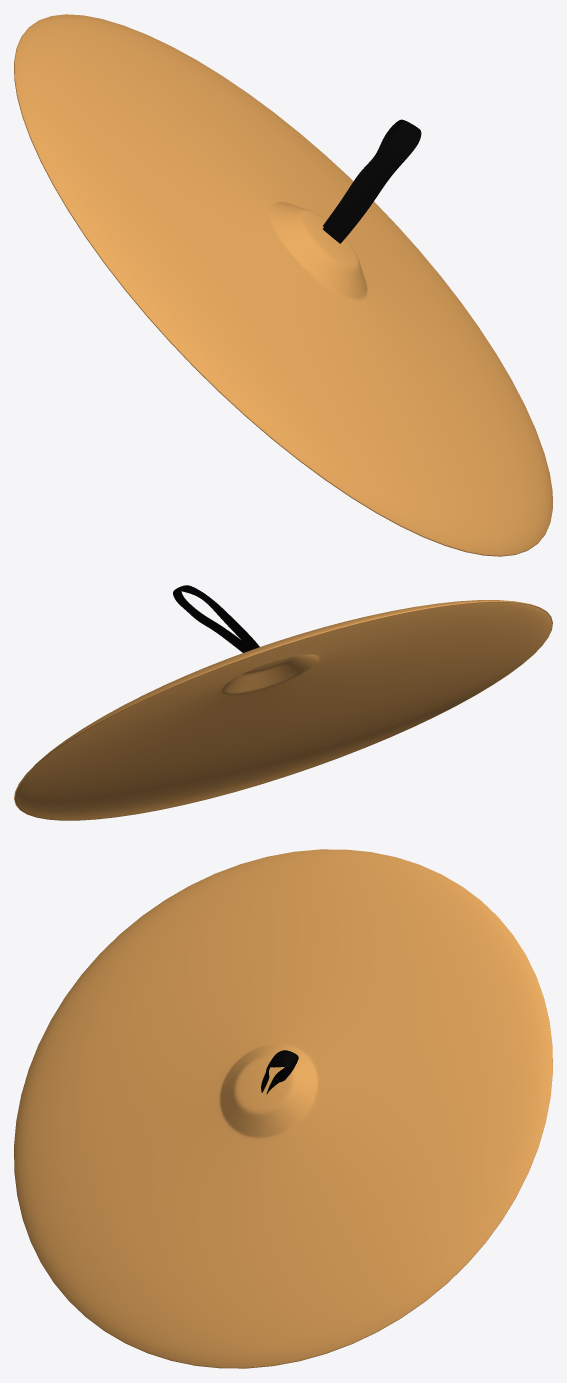
3 renders of one model, top to bottom at view 1: azimuth 30°, elevation 25°; view 2: azimuth 150°, elevation 25°; view 3: azimuth 270°, elevation 25°, orthographic. The views are drawn at different scales.
Visible parts, largest first — view 1: CymbalsCrash001_4; view 2: CymbalsCrash001_4; view 3: CymbalsCrash001_4.
Boxes of the visible parts, x1,y1,x2,y2 form: CymbalsCrash001_4: (14,14,552,556); CymbalsCrash001_4: (14,585,552,820); CymbalsCrash001_4: (14,849,552,1368).
Size of the model in its own units: 0.3214 by 0.2617 by 0.3653.
